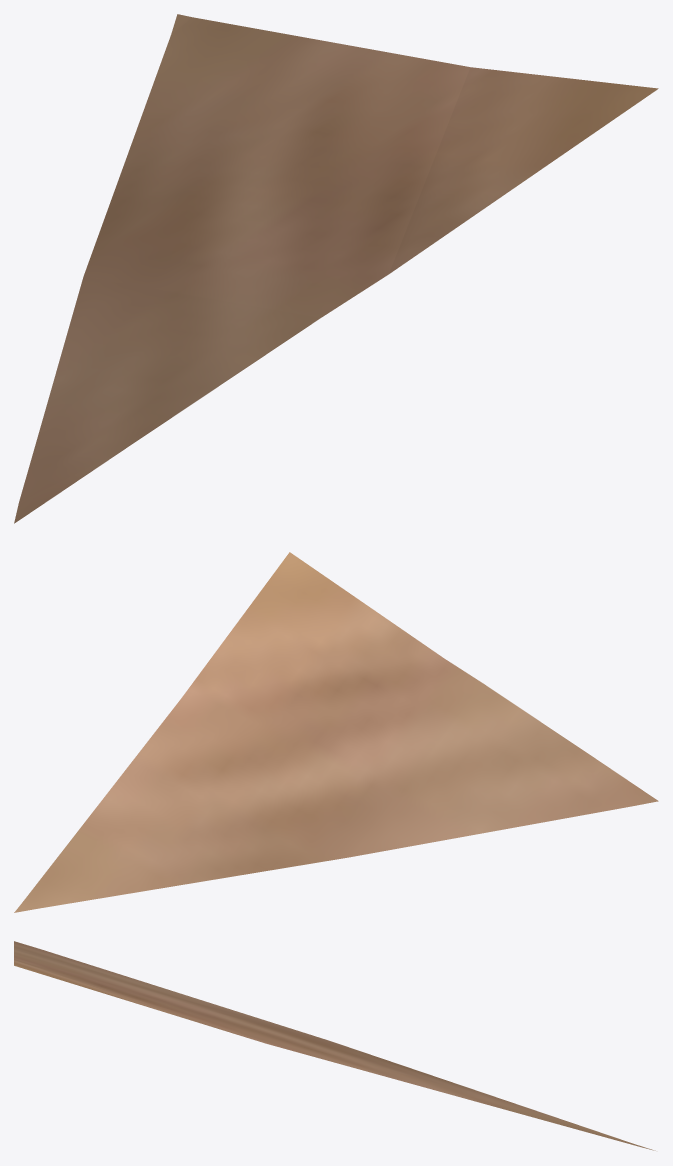
The picture shows the model from 3 angles, top to bottom: view 1: azimuth 30°, elevation 25°; view 2: azimuth 150°, elevation 25°; view 3: azimuth 270°, elevation 25°; orthographic projection. The views are drawn at different scales.
Bounding box in the file's own units: 0.058 × 0.0239 × 0.075.
Materials: 1 (1 with a texture image).
